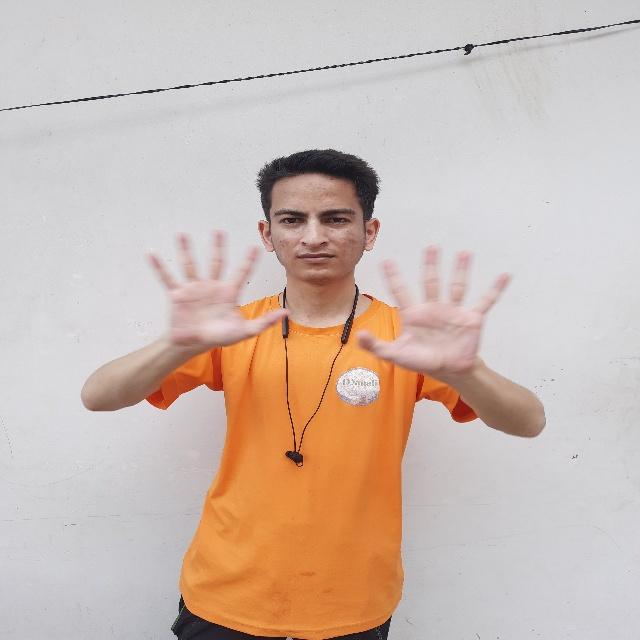Moutza: (352, 240, 522, 379), (137, 217, 296, 358)
